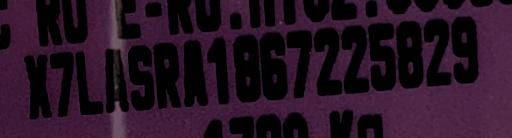letter: (312, 28, 344, 99), (448, 16, 480, 85), (257, 31, 289, 99), (422, 15, 452, 87), (74, 49, 106, 114), (20, 52, 52, 117), (340, 26, 370, 95), (394, 20, 424, 88), (366, 23, 396, 91), (231, 34, 261, 102), (126, 45, 156, 113), (152, 42, 182, 109), (286, 29, 312, 98), (205, 35, 231, 103), (182, 38, 208, 105), (103, 45, 129, 112), (48, 51, 74, 115)
